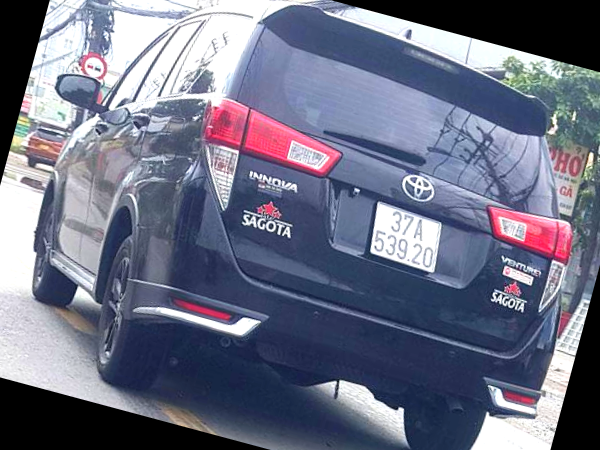lisence: (369, 202, 440, 272)
